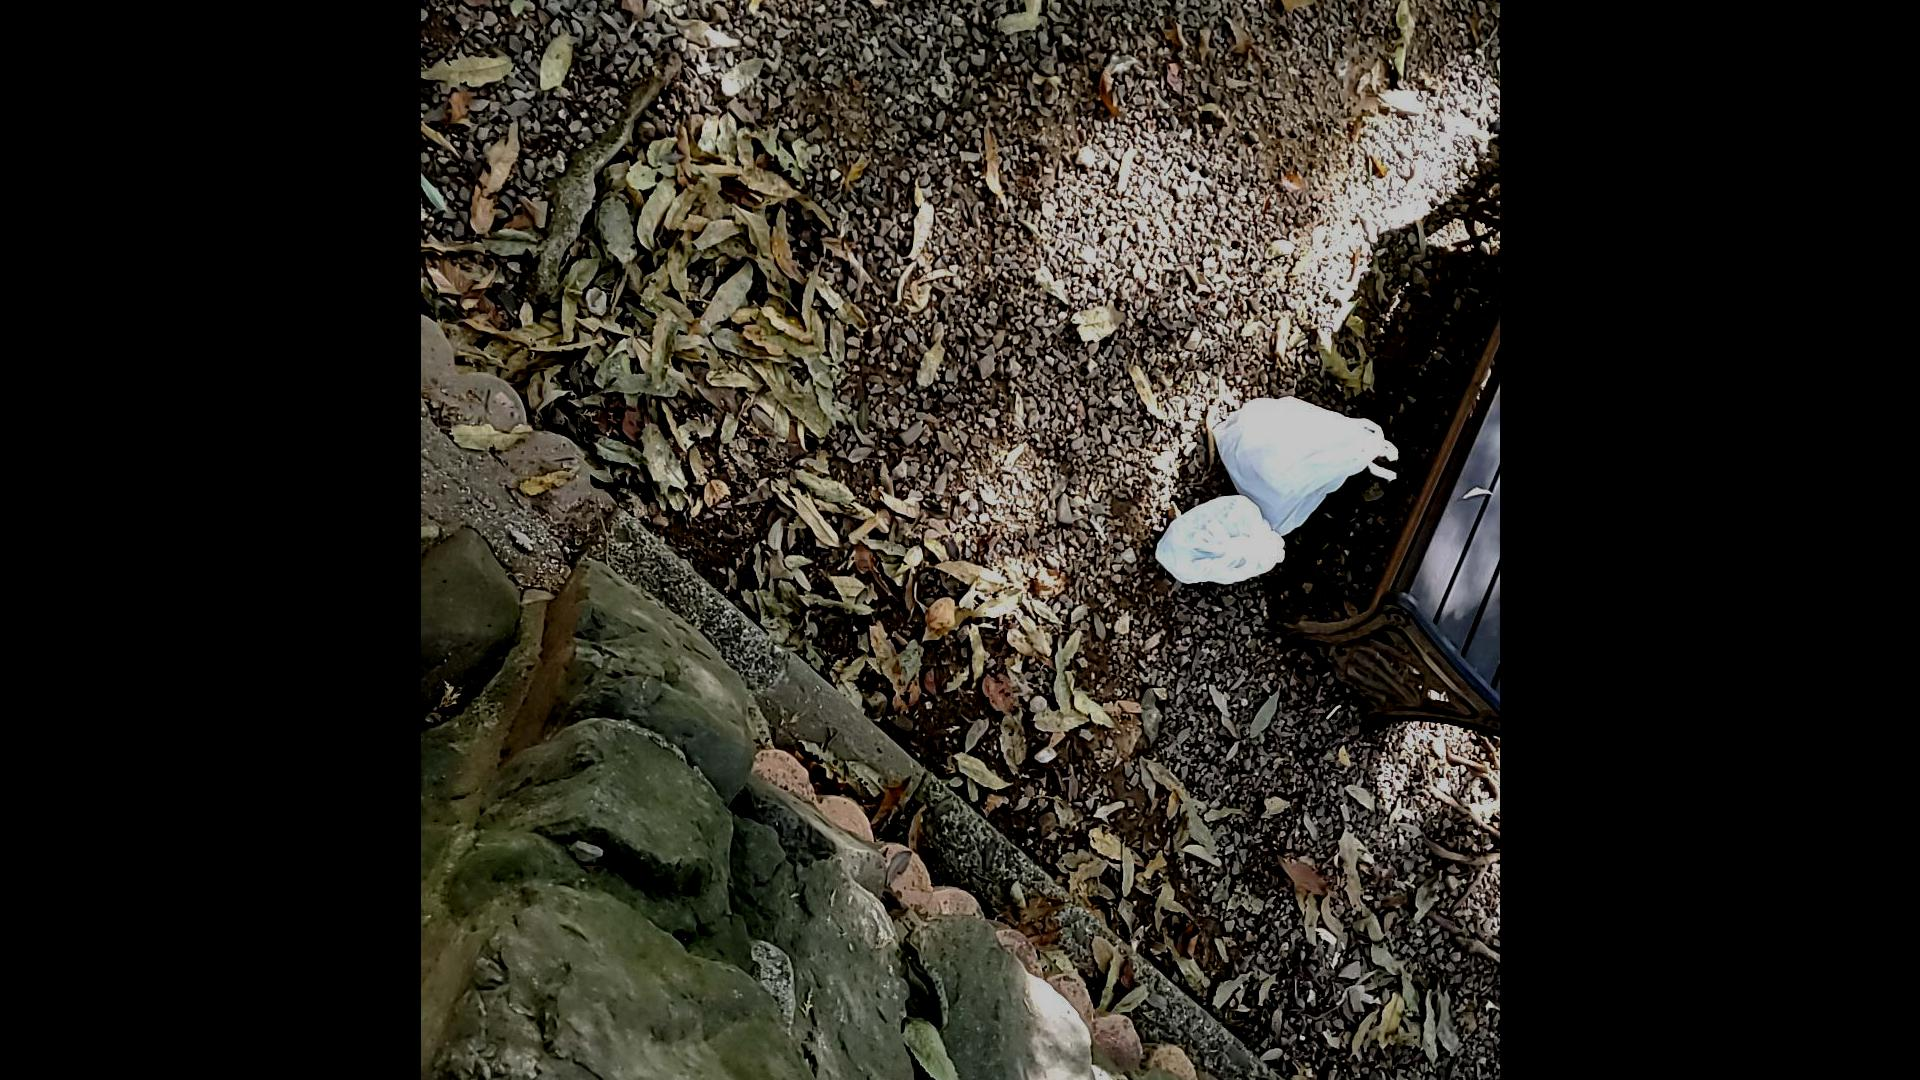white_bag: (1209, 378, 1404, 549), (1146, 487, 1288, 600)
